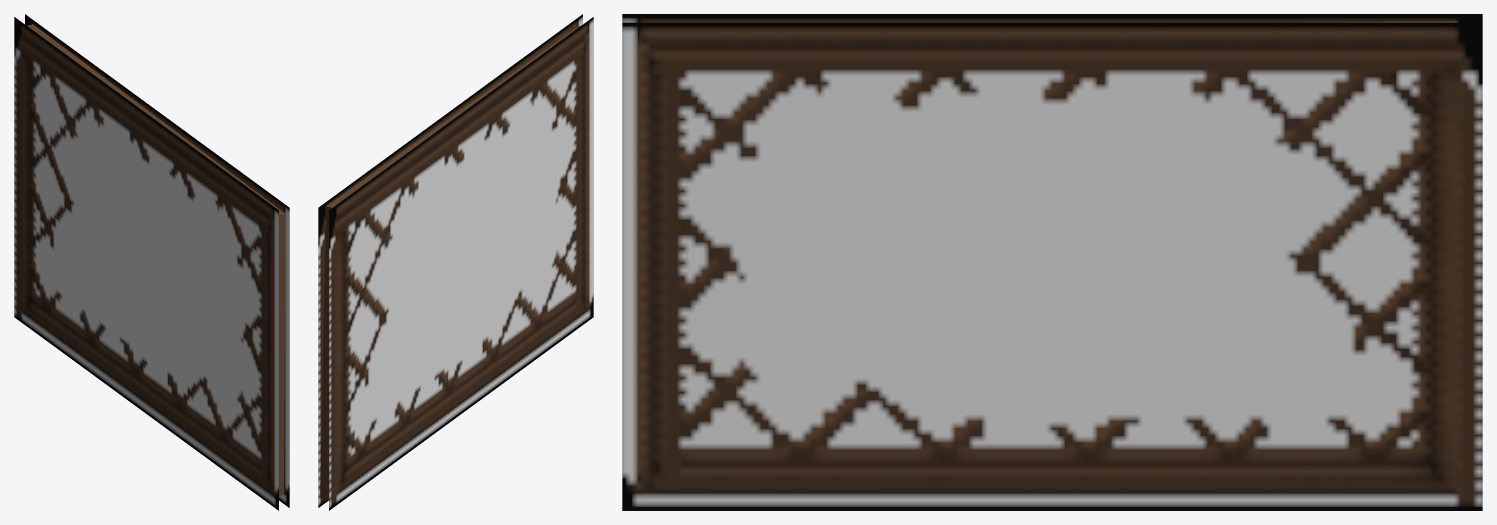
Rendered from pz_native_fixtures_windows_church_104_frame.obj.
3 views of the same model, side by side, from view 1: azimuth 30°, elevation 25°; view 2: azimuth 150°, elevation 25°; view 3: azimuth 270°, elevation 25° (orthographic). The views are drawn at different scales.
Parts seen in each view (by area): view 1: pz_native_fixtures_windows_church_104_frame; view 2: pz_native_fixtures_windows_church_104_frame; view 3: pz_native_fixtures_windows_church_104_frame.
Part boxes in pixels (box(x1,y1,x2,y2)): pz_native_fixtures_windows_church_104_frame: box(14, 14, 289, 510); pz_native_fixtures_windows_church_104_frame: box(318, 14, 593, 510); pz_native_fixtures_windows_church_104_frame: box(622, 14, 1482, 510).
Bounding box in the file's own units: 0.04 × 1.06 × 1.7.
1 material, 1 textured.
